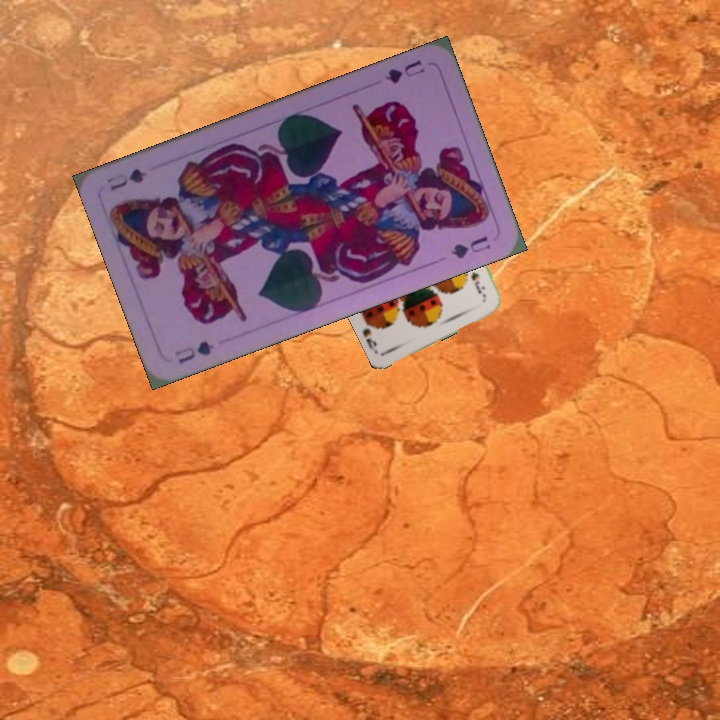GU: (380, 56, 428, 87), (170, 337, 217, 366)
S9: (467, 268, 489, 300)
